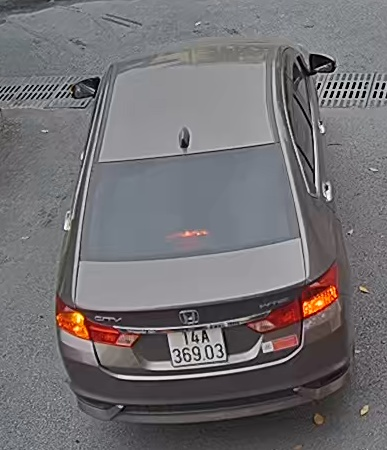vehicle plate: (162, 323, 235, 366)
